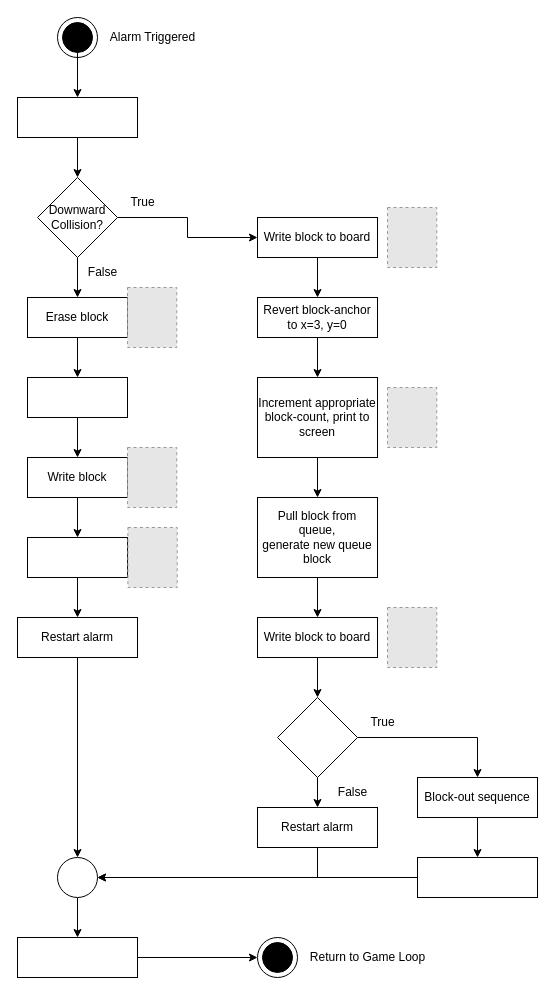
This 555x995 diagram has some shape labels left out. Grey dashed boxes stand in for pictures. The shapes that lost their labels are listed below. From the top down, each one's box as (x1, y1, x2, y2) in pixels, then its label:
(16, 96, 138, 138): Cancel future alarms
(26, 376, 128, 418): Increment block's y
(26, 536, 128, 578): Refresh board
(276, 696, 358, 778): Block Out?
(416, 856, 538, 898): Set "end" var (flag) to 1
(16, 936, 138, 978): Update statistics board
